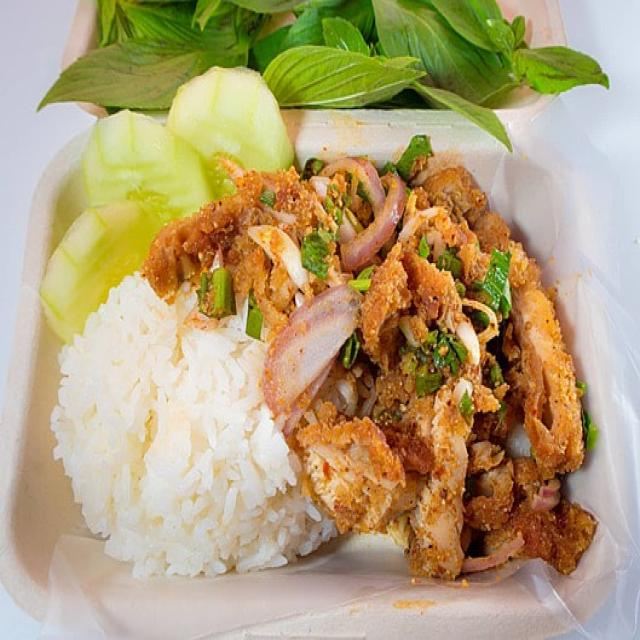carb: (64, 278, 305, 581)
meat: (214, 181, 586, 564)
spicy chicken rice salad: (30, 105, 589, 614)
vegetable: (84, 0, 569, 182), (56, 76, 244, 260)
